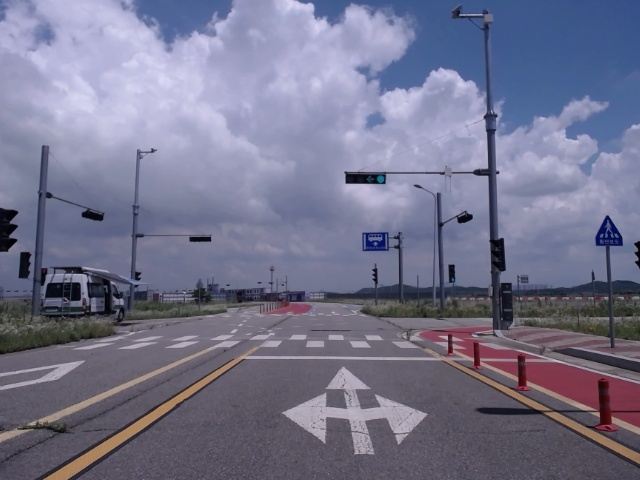all_green_4: (344, 172, 385, 185)
